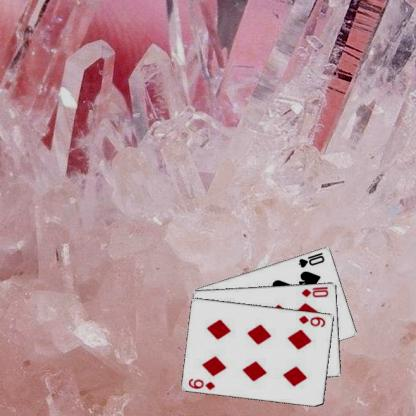10D: (299, 284, 330, 298)
10S: (296, 250, 325, 268)
6D: (296, 313, 327, 328), (186, 376, 216, 390)
